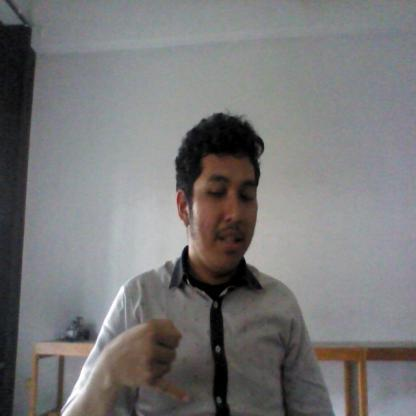J: (104, 315, 194, 406)
